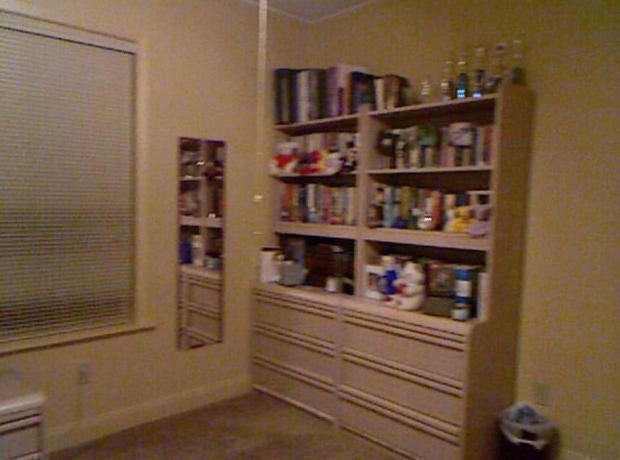Bote de Basura: (493, 400, 556, 457)
